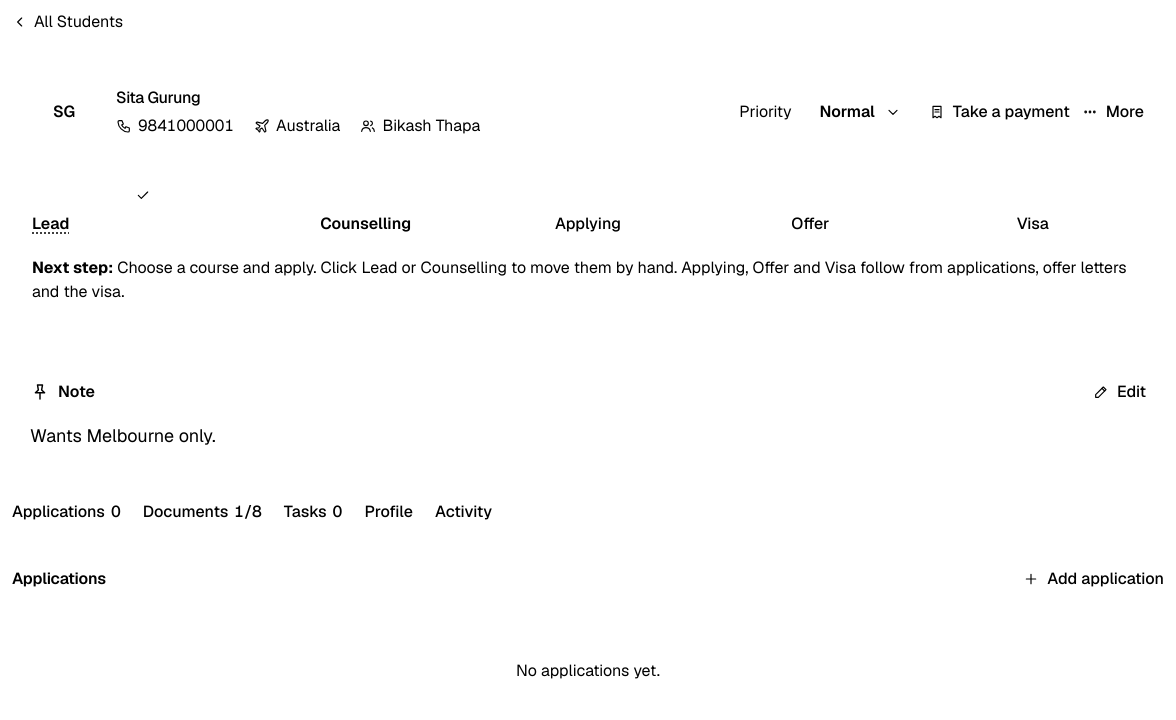
a Student's Priority (ticket 10) › shows a priority change in Activity
Click the tab "Activity" at (464, 512), box [435,490,492,534]
(page scrolled)
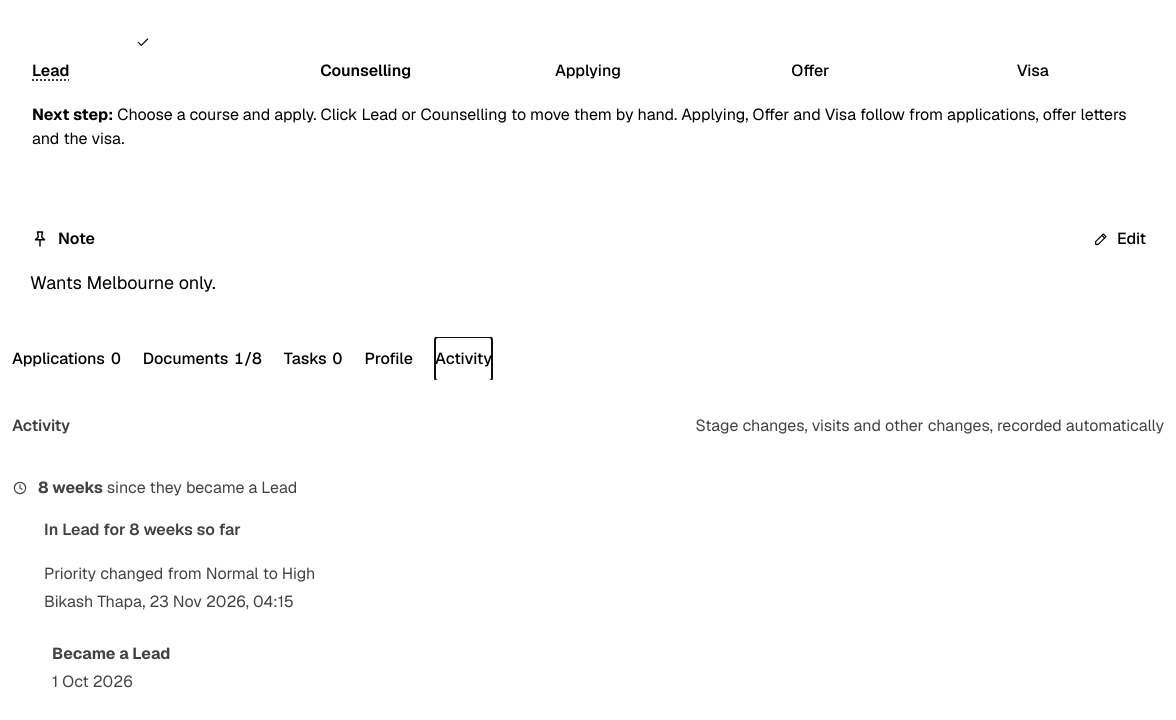
Expected: the text "Priority changed from Normal to High" is shown, [44,563,315,584]
